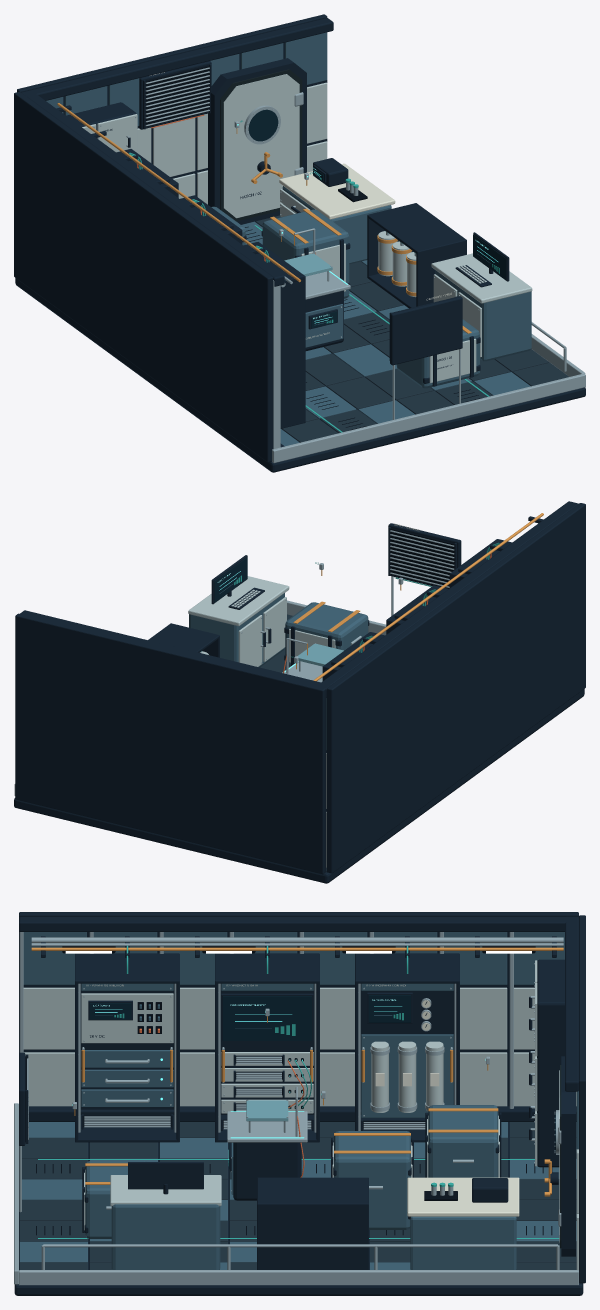
The model's file is cargo.glb.
3 views of the same model, one above another, from view 1: azimuth 30°, elevation 25°; view 2: azimuth 150°, elevation 25°; view 3: azimuth 270°, elevation 25° (orthographic). The views are drawn at different scales.
Parts seen in each view (by area): view 1: port_shell_backing, hatch_door, floor_substructure, front_cut_edge, aft_crown_rail, vent_frame, rack_sidewall, console_pedestal, hatch_outer_coaming, bench_top, cargo_shell, port_crown_rail (+46 smaller); view 2: aft_shell_backing, port_shell_backing, floor_substructure, port_crown_rail, vent_recess, console_worktop, cargo_shell.002, aft_crown_rail, console_pedestal, fluid_bay_end.001, console_access_door.001, console_access_door (+7 smaller); view 3: starboard_cut_edge, port_crown_rail, console_pedestal, floor_substructure, fluid_bay_back, bench_cabinet, cargo_shell, locker_shell, port_shell_backing, cargo_shell.001, avionics_display_glass, filter_background (+95 smaller).
Part boxes in pixels (bbox=[...]): port_shell_backing: bbox=[14, 92, 273, 462]; hatch_door: bbox=[223, 74, 299, 218]; floor_substructure: bbox=[15, 222, 585, 472]; front_cut_edge: bbox=[272, 373, 585, 463]; aft_crown_rail: bbox=[21, 18, 333, 100]; vent_frame: bbox=[390, 296, 462, 365]; rack_sidewall: bbox=[280, 277, 305, 428]; console_pedestal: bbox=[435, 270, 531, 361]; hatch_outer_coaming: bbox=[208, 58, 306, 224]; bench_top: bbox=[279, 163, 395, 219]; cargo_shell: bbox=[262, 209, 349, 298]; port_crown_rail: bbox=[23, 90, 284, 286]; aft_shell_backing: bbox=[15, 613, 325, 874]; port_shell_backing: bbox=[326, 503, 585, 873]; floor_substructure: bbox=[14, 689, 584, 883]; port_crown_rail: bbox=[317, 501, 578, 688]; vent_recess: bbox=[390, 528, 454, 588]; console_worktop: bbox=[188, 576, 289, 626]; cargo_shell.002: bbox=[285, 602, 368, 666]; aft_crown_rail: bbox=[20, 610, 330, 697]; console_pedestal: bbox=[189, 593, 284, 667]; fluid_bay_end.001: bbox=[148, 624, 219, 652]; console_access_door.001: bbox=[263, 597, 286, 661]; console_access_door: bbox=[238, 615, 262, 666]; starboard_cut_edge: bbox=[19, 1270, 578, 1285]; port_crown_rail: bbox=[19, 917, 578, 931]; console_pedestal: bbox=[111, 1204, 220, 1269]; floor_substructure: bbox=[14, 1122, 583, 1295]; fluid_bay_back: bbox=[258, 1202, 367, 1269]; bench_cabinet: bbox=[410, 1216, 516, 1269]; cargo_shell: bbox=[334, 1131, 410, 1229]; locker_shell: bbox=[537, 959, 564, 1167]; port_shell_backing: bbox=[19, 912, 578, 1106]; cargo_shell.001: bbox=[428, 1105, 498, 1177]; avionics_display_glass: bbox=[222, 996, 311, 1040]; filter_background: bbox=[361, 1034, 453, 1117].
Bounding box in the file's own units: 5.78 × 3.38 × 8.17.
